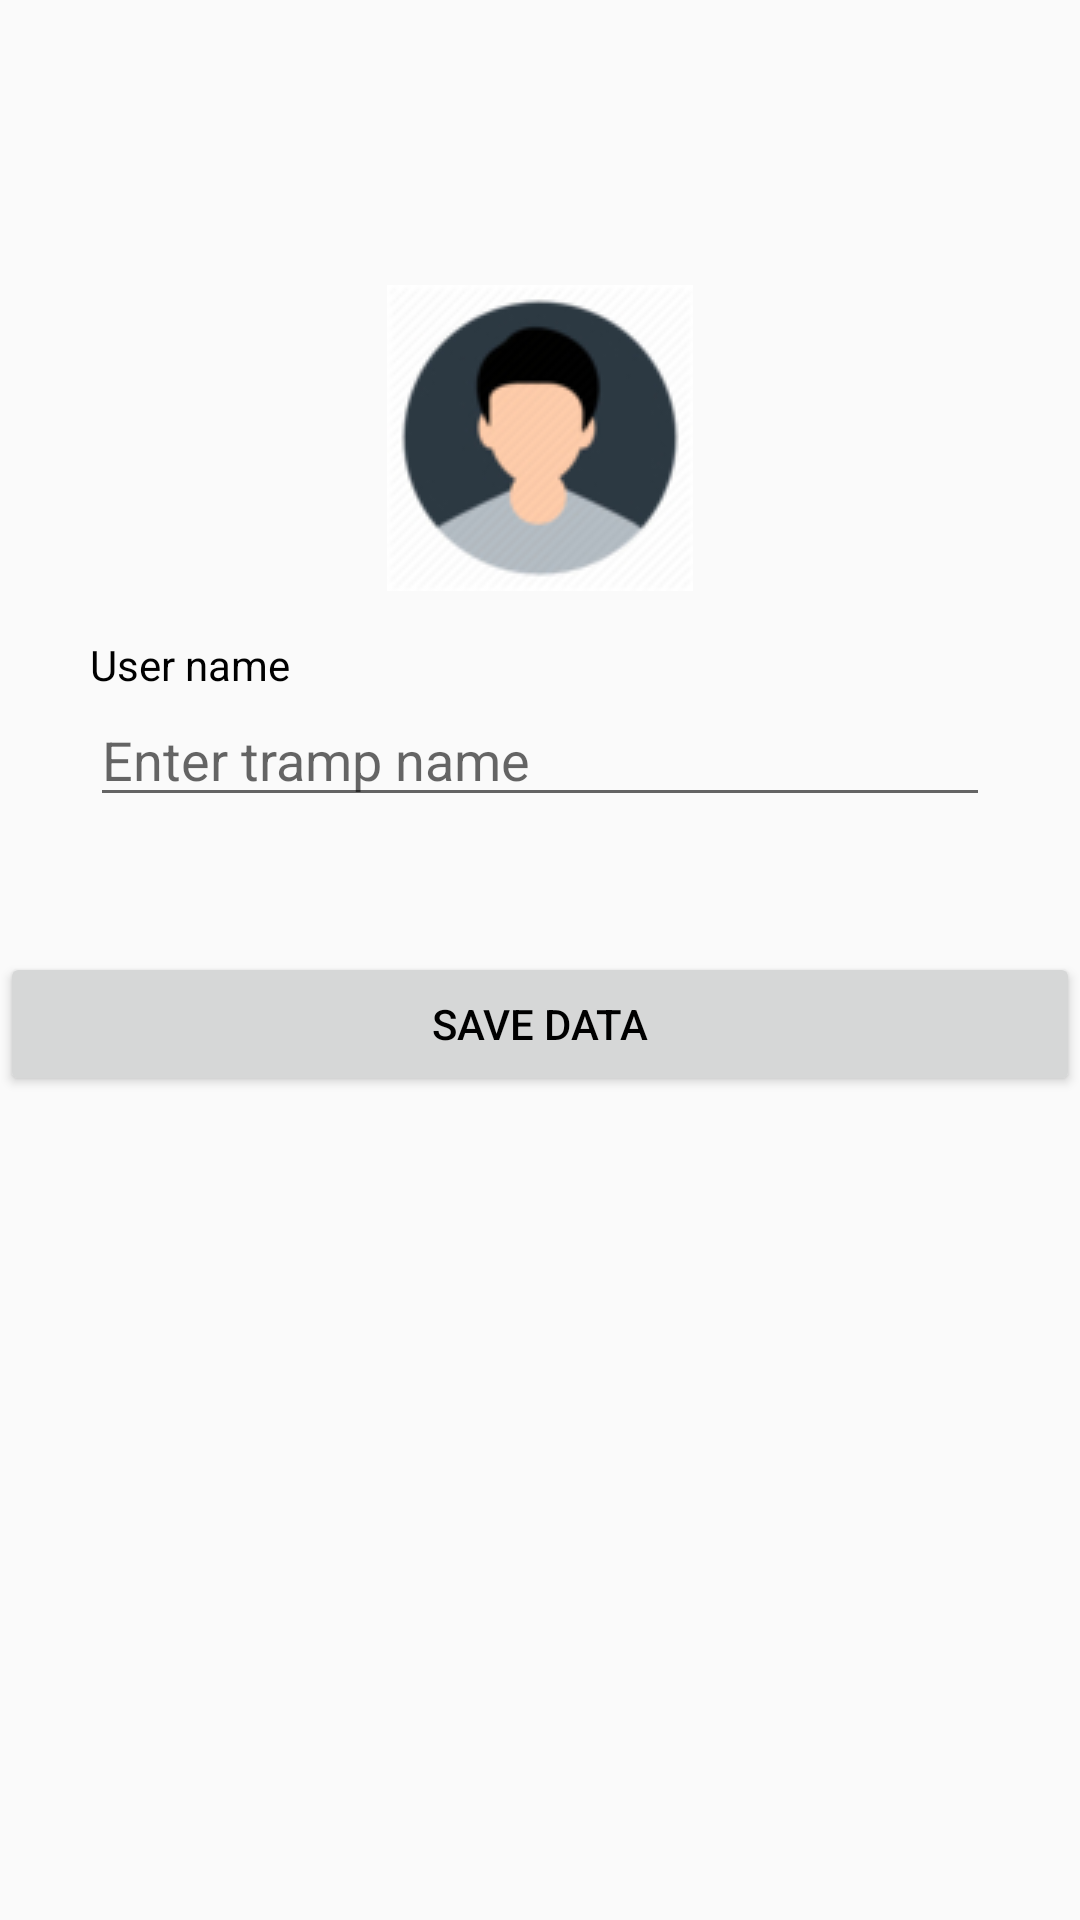

Named icons in this screenshot (1080 x 1920) and their bounding boxes, (x1, y1, x2, y2):
userp: (401, 299, 679, 576)
